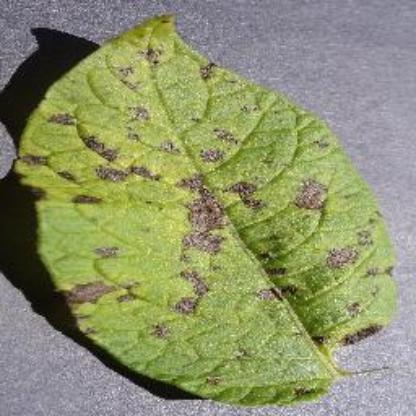Early-Blight: (15, 10, 396, 406)
